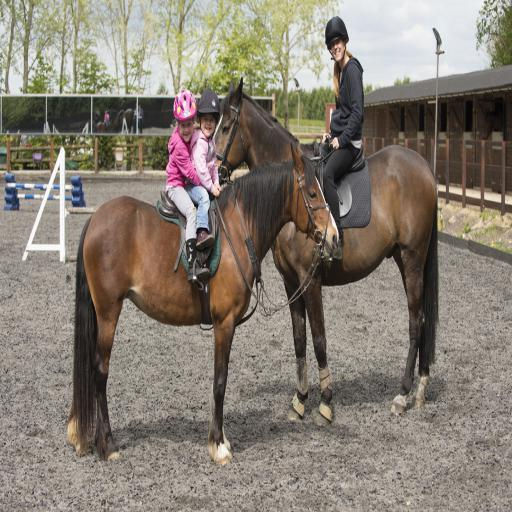horse: (66, 140, 340, 465), (210, 75, 441, 428)
